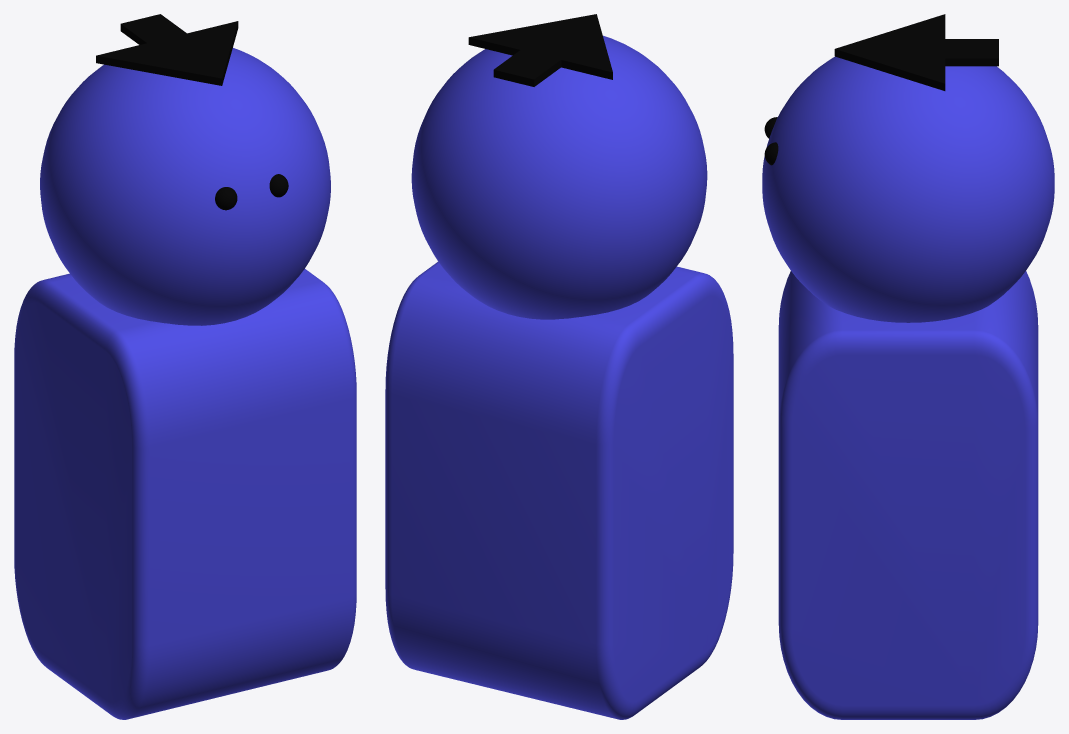
The model's file is 2purple.obj.
The picture shows the model from 3 angles, left to right: view 1: azimuth 30°, elevation 25°; view 2: azimuth 150°, elevation 25°; view 3: azimuth 270°, elevation 25°; orthographic projection.
Visible parts, largest first — view 1: Curve.002_Curve.017, Curve.002_Curve.018; view 2: Curve.002_Curve.017, Curve.002_Curve.018; view 3: Curve.002_Curve.017, Curve.002_Curve.018.
Part boxes in pixels (x1,y1,x2,y2): Curve.002_Curve.017: (14,48,356,719); Curve.002_Curve.018: (96,14,288,210); Curve.002_Curve.017: (385,35,733,719); Curve.002_Curve.018: (468,14,612,86); Curve.002_Curve.017: (762,56,1054,719); Curve.002_Curve.018: (764,14,998,165).
Bounding box in the file's own units: 0.2062 × 0.4819 × 0.2057.
